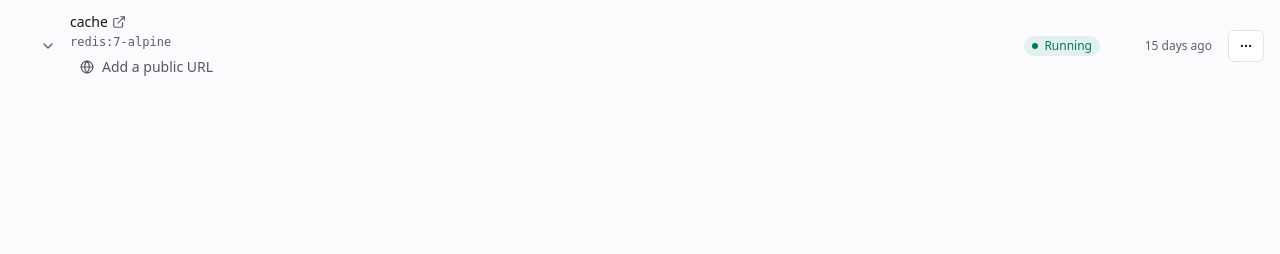
Scenario: ContainerRow › does not strand the panel when the frames land after the backstop
Step 1. Click the 1st button → coordinates (48, 46), box [34, 32, 62, 60]
Wait 1000 ms
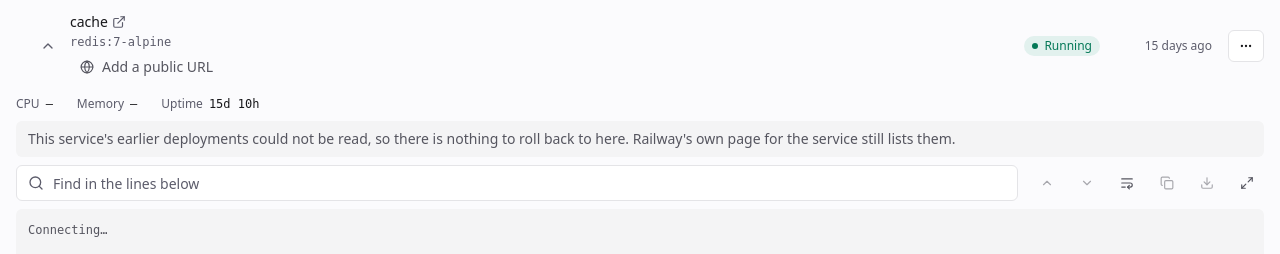
Result: the element showing "Connecting…" is shown at [28, 223, 108, 237]
